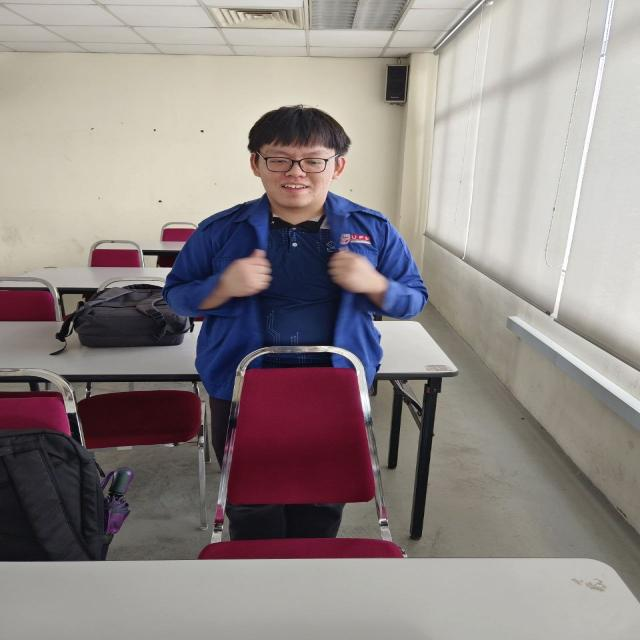person_with_labcoat: (165, 106, 427, 464), (229, 504, 343, 540)
